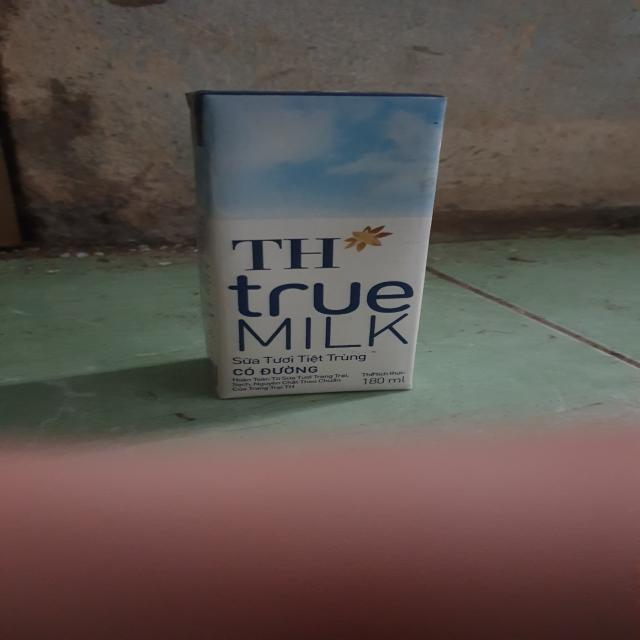TH: (189, 92, 438, 399)
